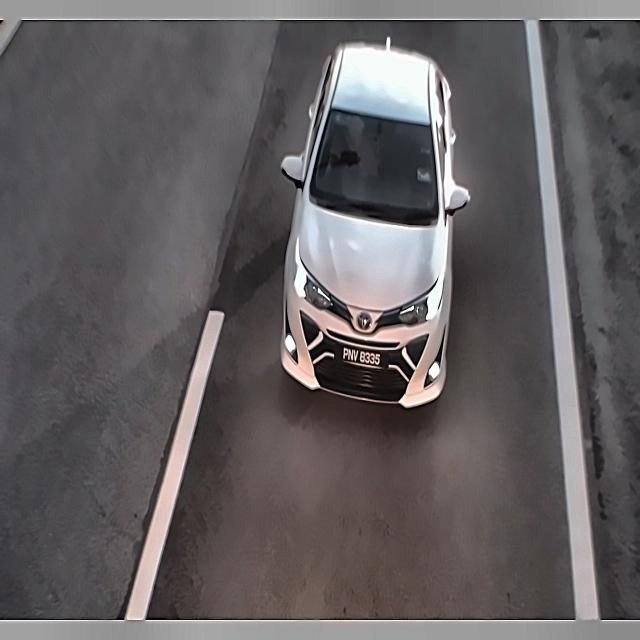car: (332, 341, 393, 377)
